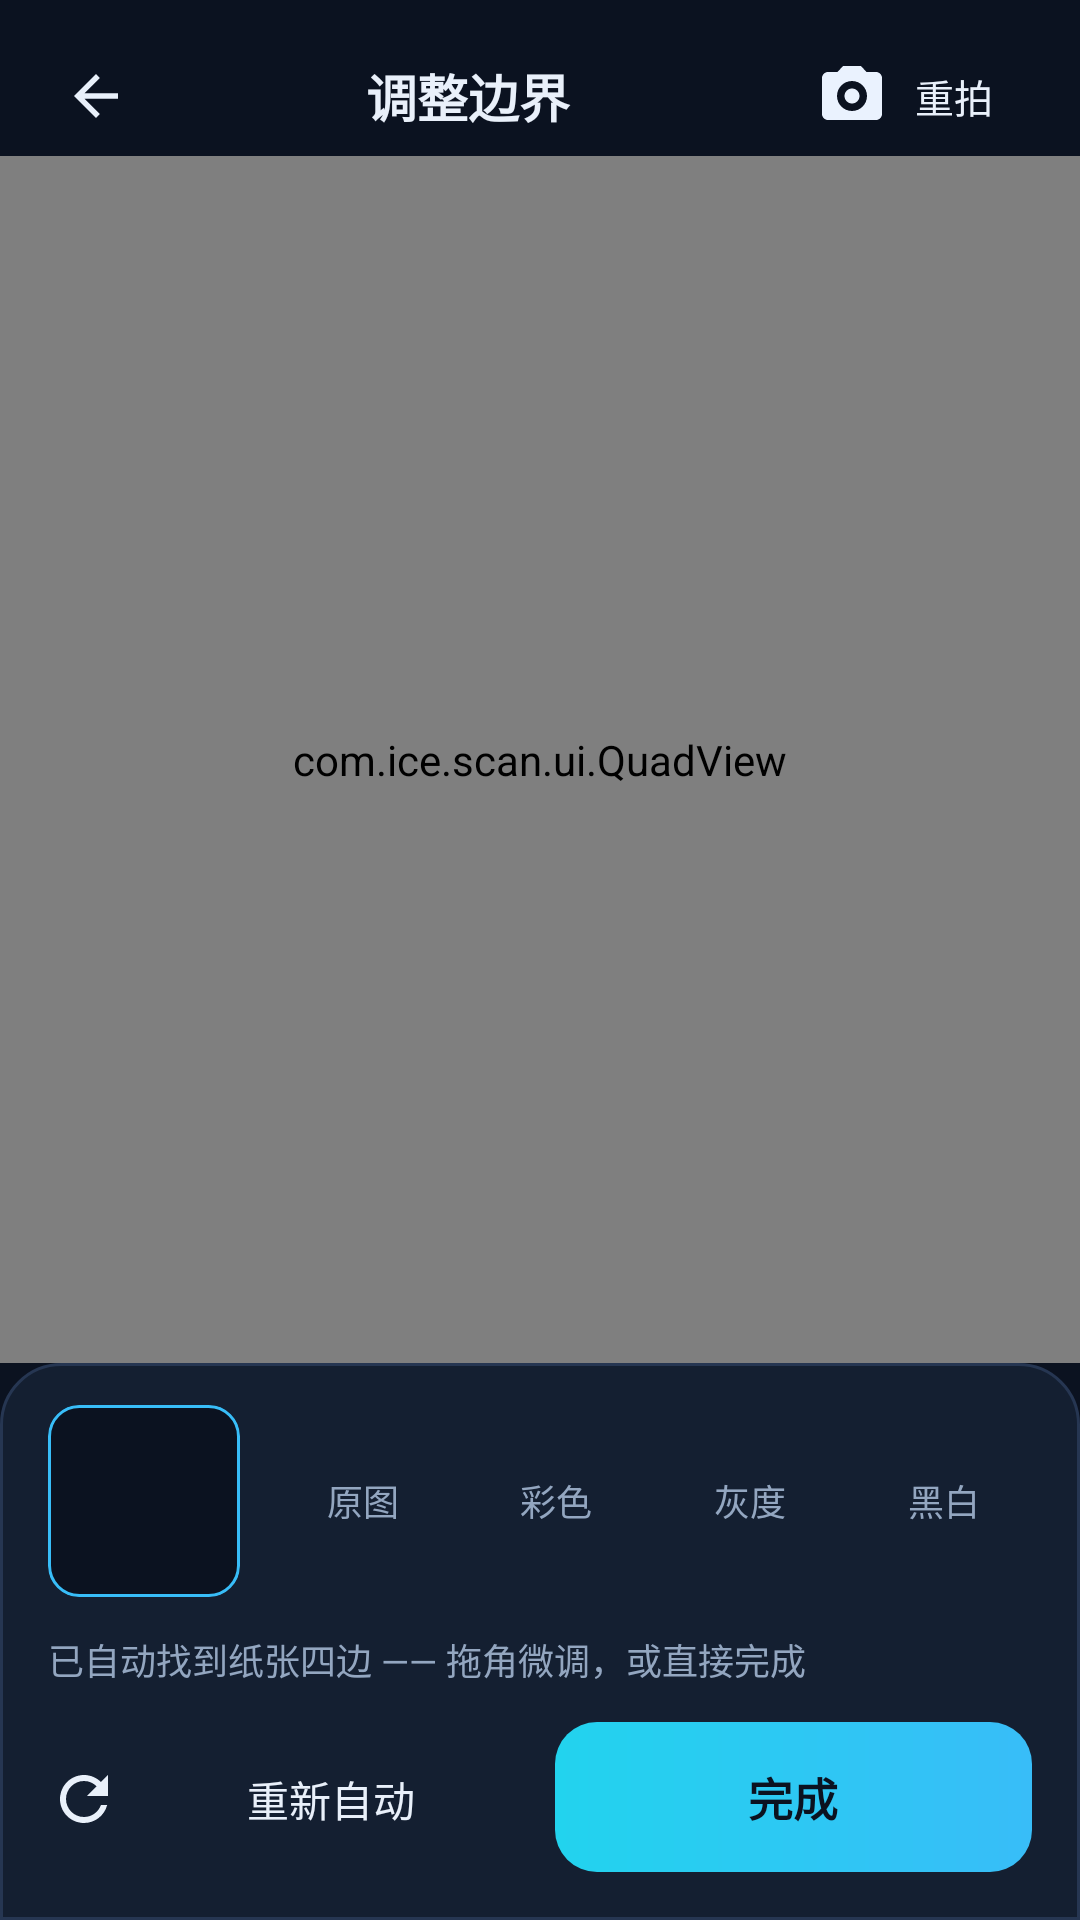

Named icons in this screenshot (1080 × 1920) and their bounding boxes, (x1, y1, x2, y2):
返回: (74, 74, 118, 118)
